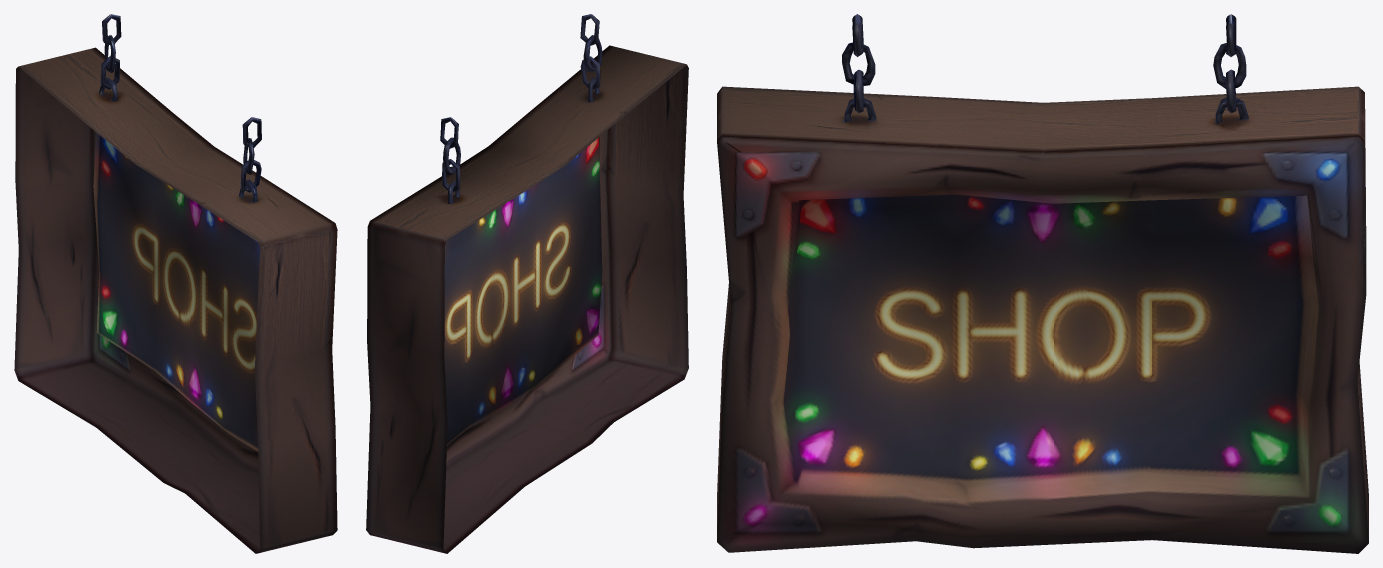
File: neon+shop+sign+3d+model.fbx
3 views of the same model, side by side, from view 1: azimuth 30°, elevation 25°; view 2: azimuth 150°, elevation 25°; view 3: azimuth 270°, elevation 25° (orthographic). The views are drawn at different scales.
Parts seen in each view (by area): view 1: meshes[0]; view 2: meshes[0]; view 3: meshes[0].
Boxes of the visible parts, x1,y1,x2,y2 form: meshes[0]: (14, 14, 337, 553); meshes[0]: (366, 14, 688, 553); meshes[0]: (717, 14, 1368, 553).
Size of the model in its own units: 0.1816 by 0.877 by 0.998.
